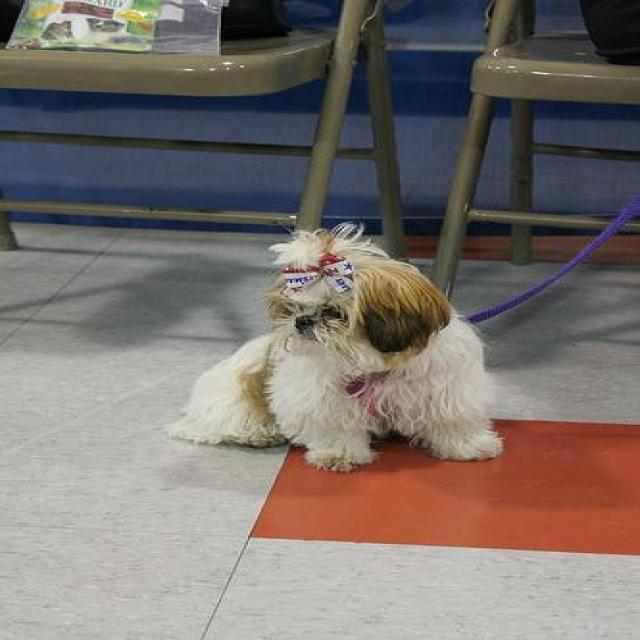pekinese: (165, 220, 508, 481)
